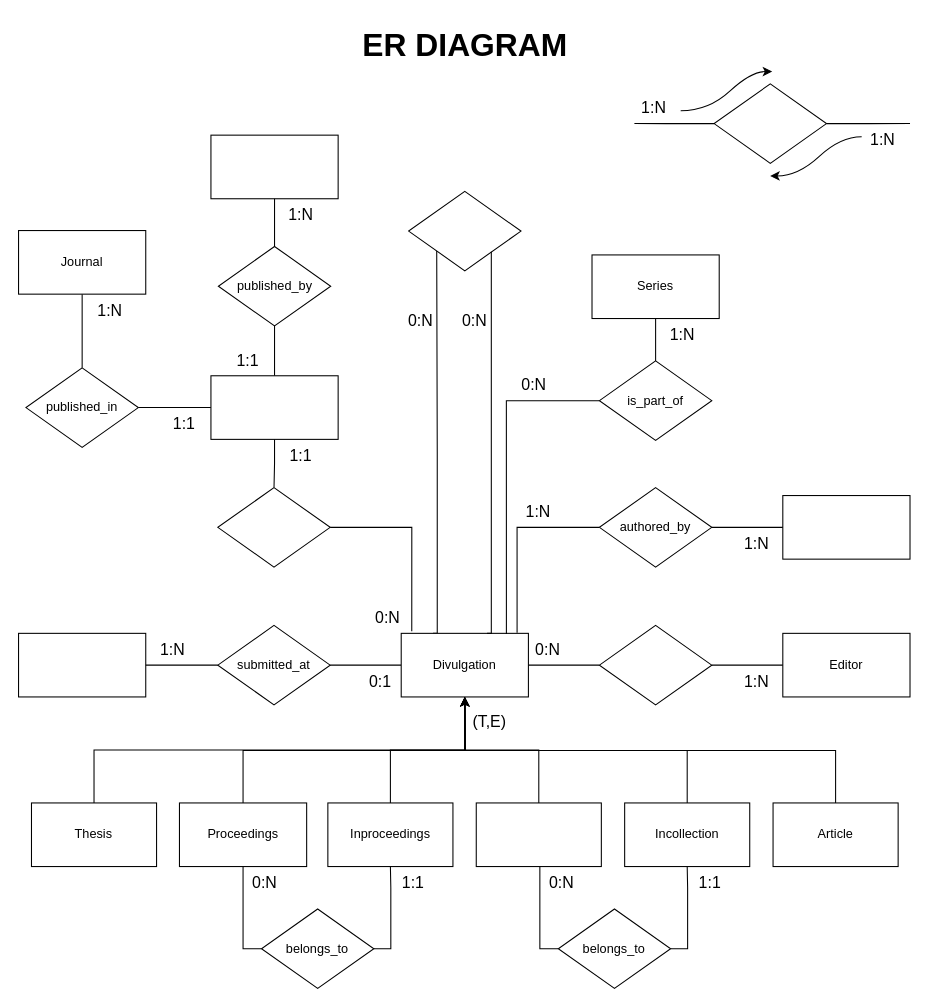
Image size: 930x1007. Some labels were removed from this diagram. Each missing label, with the box of its shape:
Author: (782, 494, 910, 559)
Book: (475, 802, 601, 867)
cite: (408, 190, 521, 271)
edited_by: (598, 624, 712, 705)
present_in: (217, 487, 330, 567)
Publication: (210, 375, 338, 439)
Publisher: (210, 134, 338, 199)
School: (17, 632, 146, 697)
